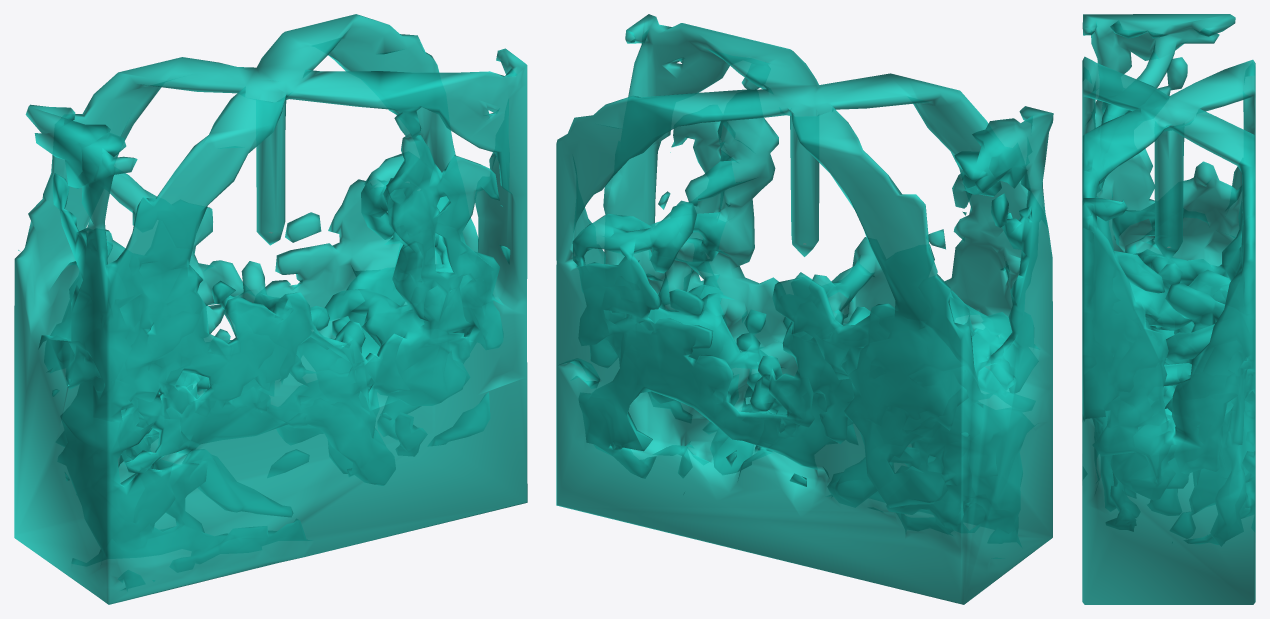
3 renders of one model, left to right at view 1: azimuth 30°, elevation 25°; view 2: azimuth 150°, elevation 25°; view 3: azimuth 270°, elevation 25°, orthographic. The views are drawn at different scales.
Visible parts, largest first — view 1: Liquid_Domain; view 2: Liquid_Domain; view 3: Liquid_Domain.
Boxes of the visible parts, box(x1,y1,x2,y2) form: Liquid_Domain: box(14, 14, 527, 604); Liquid_Domain: box(556, 14, 1053, 604); Liquid_Domain: box(1082, 14, 1255, 604).
Bounding box in the file's own units: 885 × 884 × 344.
